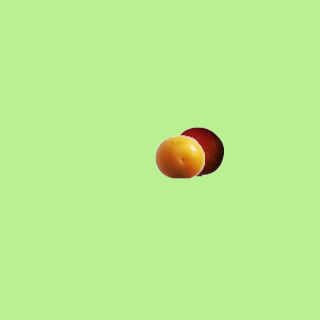Apple Braeburn: (173, 126, 223, 176)
Cherry Wax Yellow: (154, 131, 204, 181)
